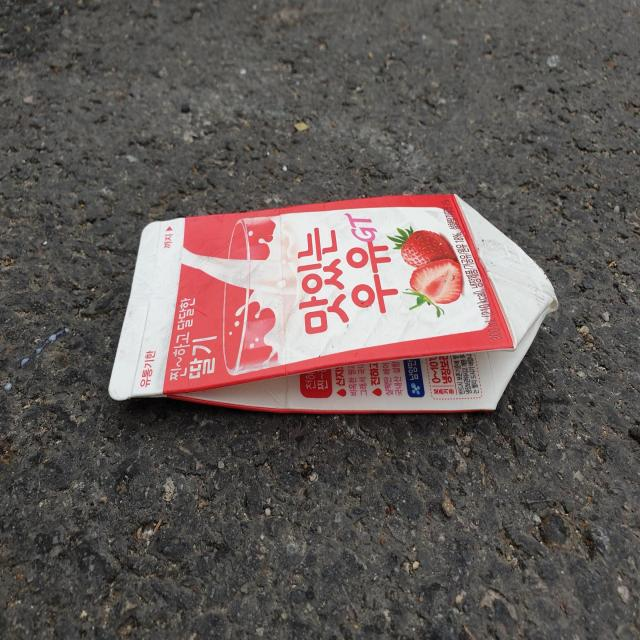paperpack: (109, 194, 558, 412)
